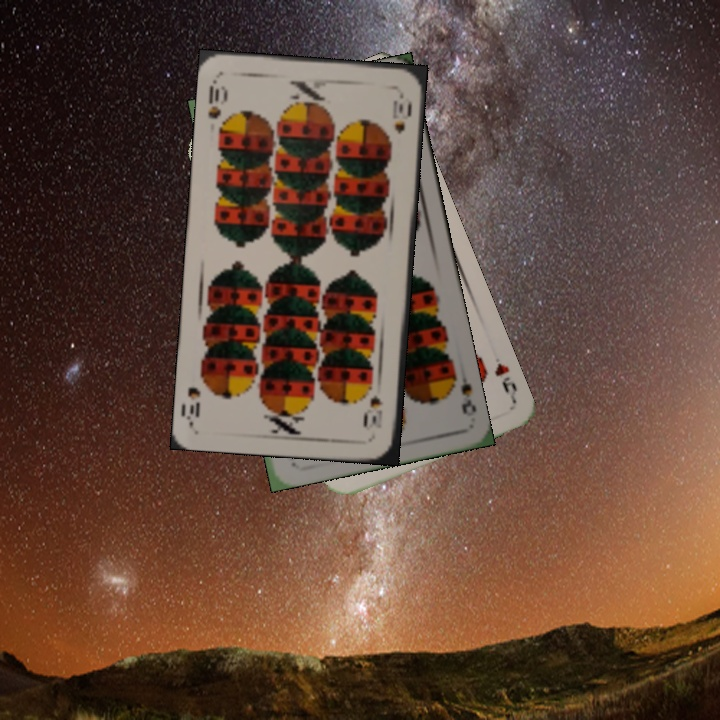H9: (490, 359, 520, 403)
S10: (204, 75, 231, 122), (367, 391, 386, 431)
S9: (444, 365, 479, 417)
